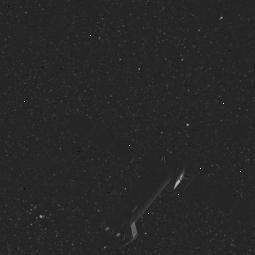xmm_newton: (90, 144, 206, 243)
